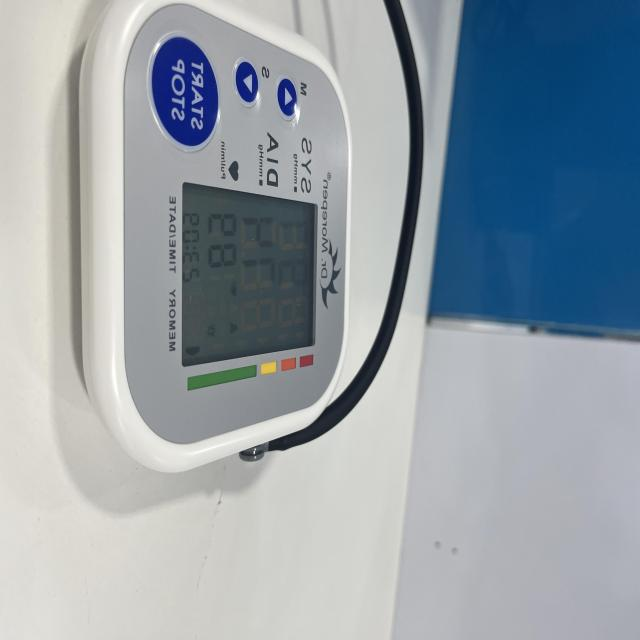bp: (76, 0, 402, 476)
